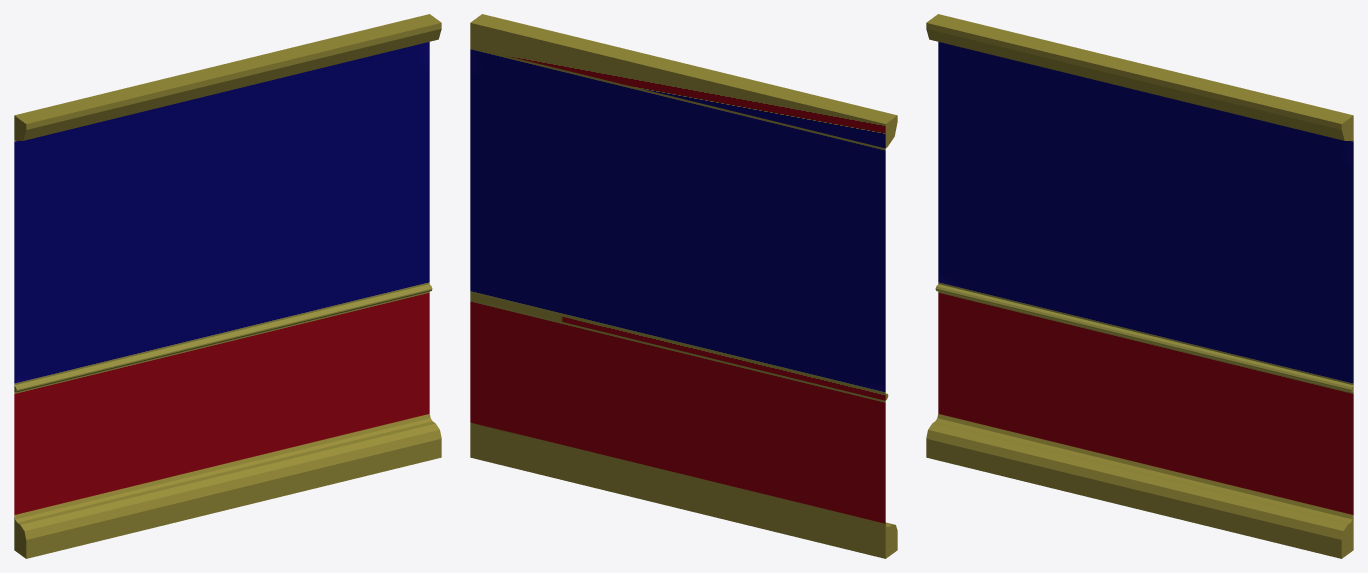
The model's file is Walls.glb.
3 renders of one model, left to right at view 1: azimuth 30°, elevation 25°; view 2: azimuth 150°, elevation 25°; view 3: azimuth 330°, elevation 25°, orthographic.
Parts seen in each view (by area): view 1: Plane; view 2: Plane; view 3: Plane.
Part boxes in pixels (x1,y1,x2,y2): Plane: (14, 14, 441, 558); Plane: (470, 14, 897, 558); Plane: (926, 14, 1353, 558).
Size of the model in its own units: 4 by 4 by 0.2.
Materials: 1 (1 with a texture image).
